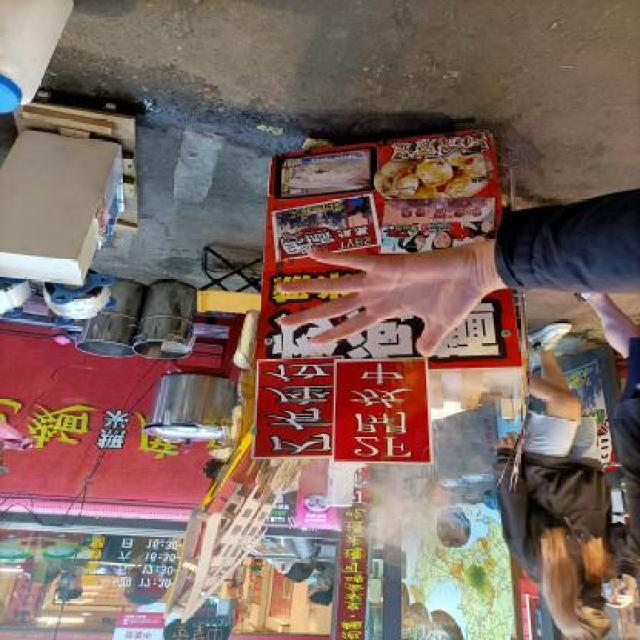bare_hand: (259, 220, 513, 365)
